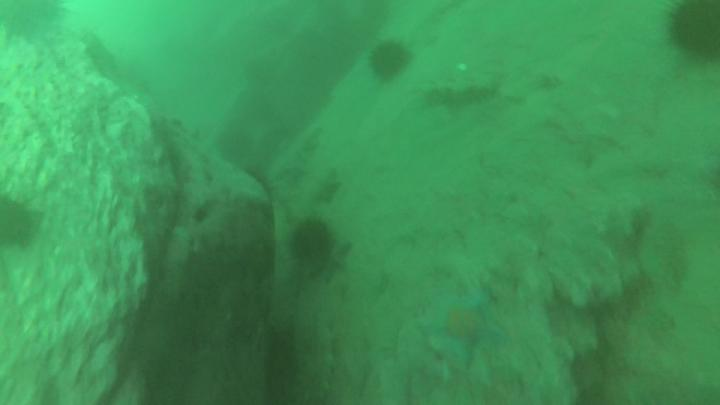echinus: (675, 3, 720, 59), (366, 41, 413, 81), (294, 222, 333, 268)
holothurian: (425, 84, 501, 109)
starfish: (417, 293, 504, 367)
